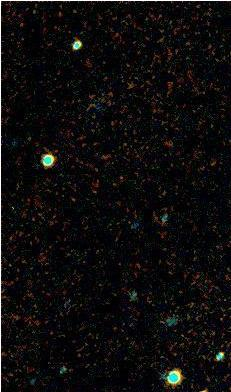star: (104, 165, 134, 195)
